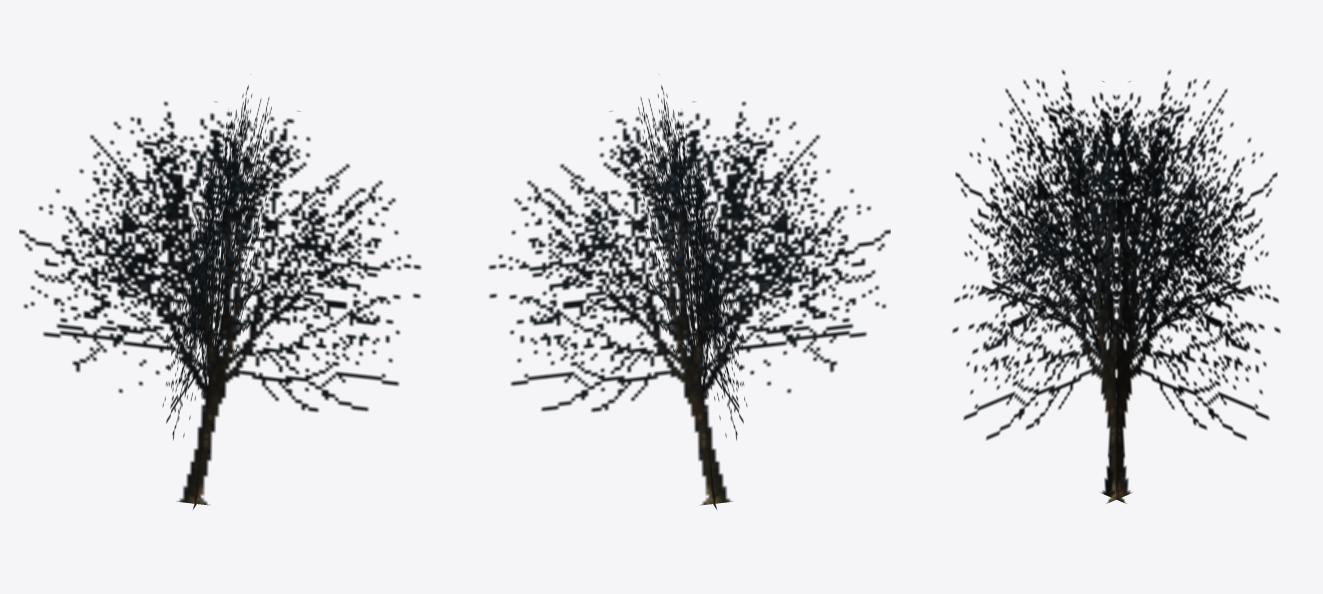
Rendered from tree001.glb.
3 renders of one model, left to right at view 1: azimuth 30°, elevation 25°; view 2: azimuth 150°, elevation 25°; view 3: azimuth 270°, elevation 25°, orthographic. The views are drawn at different scales.
Parts seen in each view (by area): view 1: tree001; view 2: tree001; view 3: tree001.
Part boxes in pixels (x1,y1,x2,y2): tree001: (19,74,421,509); tree001: (488,74,890,509); tree001: (952,70,1280,503).
Bounding box in the file's own units: 2.28 × 3.1 × 2.42.
1 material, 1 textured.
